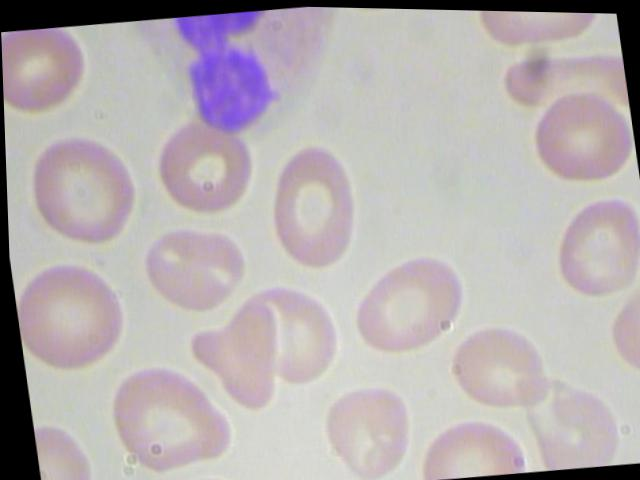Red Blood Cells: (330, 241, 481, 364), (100, 355, 239, 478), (17, 125, 148, 253), (9, 255, 142, 377), (261, 138, 366, 277), (438, 297, 556, 420), (229, 269, 346, 393), (523, 73, 639, 198), (536, 178, 639, 306), (144, 113, 266, 219), (301, 375, 420, 479), (136, 215, 253, 320), (1, 24, 105, 130), (474, 8, 605, 54)
White Blood Cells: (118, 2, 362, 152)
